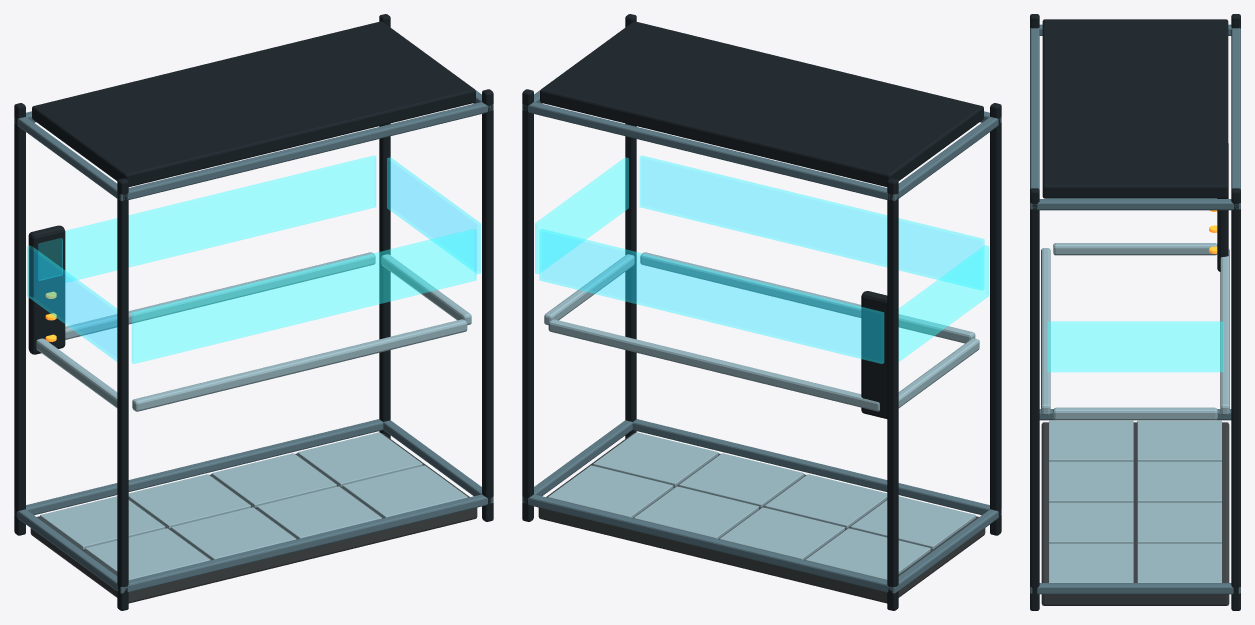
The model's file is 07_glass_2x1.glb.
3 views of the same model, side by side, from view 1: azimuth 30°, elevation 25°; view 2: azimuth 150°, elevation 25°; view 3: azimuth 270°, elevation 25° (orthographic). The views are drawn at different scales.
Parts seen in each view (by area): view 1: Ceiling_Frame, Glass_Band_North.002, Glass_Band_South.002, Floor_Base.006, Corner_Post_-1_-1, Glass_Band_East.002, Corner_Post_1_-1, Corner_Post_-1_1, Glass_Band_West.002, Handrail_North.006, Lower_Rail_North.006, Upper_Rail_North.006 (+17 smaller); view 2: Ceiling_Frame, Glass_Band_South.002, Glass_Band_North.002, Floor_Base.006, Corner_Post_-1_1, Corner_Post_1_1, Glass_Band_East.002, Corner_Post_-1_-1, Glass_Band_West.002, Lower_Rail_South.006, Upper_Rail_South.006, Handrail_South.006 (+17 smaller); view 3: Ceiling_Frame, Glass_Band_East.002, Floor_Base.006, Corner_Post_1_-1, Corner_Post_1_1, Floor_Plate_0_0.006, Floor_Plate_0_1.006, Floor_Plate_1_0.006, Floor_Plate_1_1.006, Floor_Plate_2_0.002, Floor_Plate_2_1.002, Floor_Plate_3_0.002 (+10 smaller).
Boxes of the visible parts, x1,y1,x2,y2 form: Ceiling_Frame: [32, 21, 475, 186]; Glass_Band_North.002: [132, 229, 476, 363]; Glass_Band_South.002: [65, 155, 375, 282]; Floor_Base.006: [30, 433, 477, 603]; Corner_Post_-1_-1: [117, 178, 128, 610]; Glass_Band_East.002: [387, 157, 480, 273]; Corner_Post_1_-1: [482, 89, 493, 521]; Corner_Post_-1_1: [14, 103, 25, 535]; Glass_Band_West.002: [27, 245, 116, 361]; Handrail_North.006: [132, 319, 467, 411]; Lower_Rail_North.006: [117, 494, 493, 593]; Upper_Rail_North.006: [117, 102, 493, 200]; Ceiling_Frame: [540, 21, 983, 186]; Glass_Band_South.002: [539, 229, 883, 363]; Glass_Band_North.002: [640, 155, 984, 290]; Floor_Base.006: [538, 433, 985, 603]; Corner_Post_-1_1: [887, 178, 898, 610]; Corner_Post_1_1: [522, 89, 533, 521]; Glass_Band_East.002: [535, 157, 628, 273]; Corner_Post_-1_-1: [990, 103, 1001, 535]; Glass_Band_West.002: [899, 245, 988, 361]; Lower_Rail_South.006: [522, 494, 894, 592]; Upper_Rail_South.006: [523, 102, 895, 201]; Handrail_South.006: [548, 319, 879, 411]; Ceiling_Frame: [1042, 19, 1228, 198]; Glass_Band_East.002: [1047, 321, 1223, 371]; Floor_Base.006: [1041, 422, 1229, 605]; Corner_Post_1_-1: [1030, 188, 1039, 610]; Corner_Post_1_1: [1231, 188, 1240, 610]; Floor_Plate_0_0.006: [1049, 420, 1133, 461]; Floor_Plate_0_1.006: [1137, 420, 1221, 461]; Floor_Plate_1_0.006: [1049, 461, 1133, 502]; Floor_Plate_1_1.006: [1137, 461, 1221, 502]; Floor_Plate_2_0.002: [1049, 502, 1133, 543]; Floor_Plate_2_1.002: [1137, 502, 1221, 543]; Floor_Plate_3_0.002: [1049, 543, 1133, 582].
Size of the model in its own units: 2 by 2.2 by 1.
